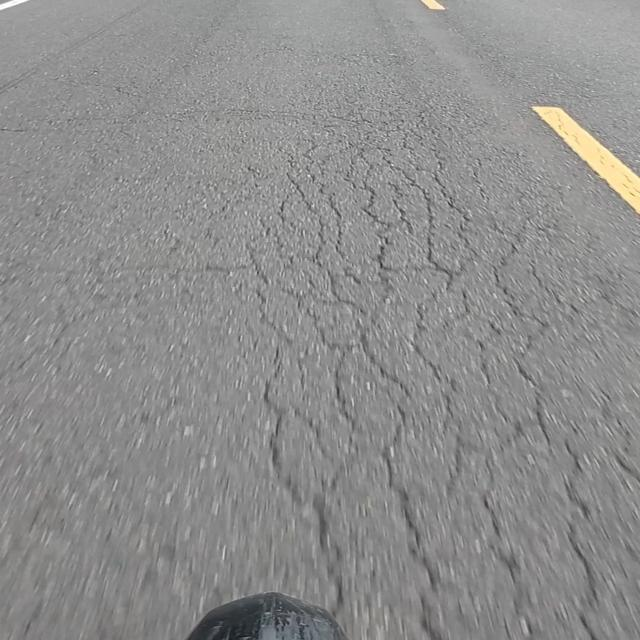Retak Buaya: (211, 144, 640, 640)
